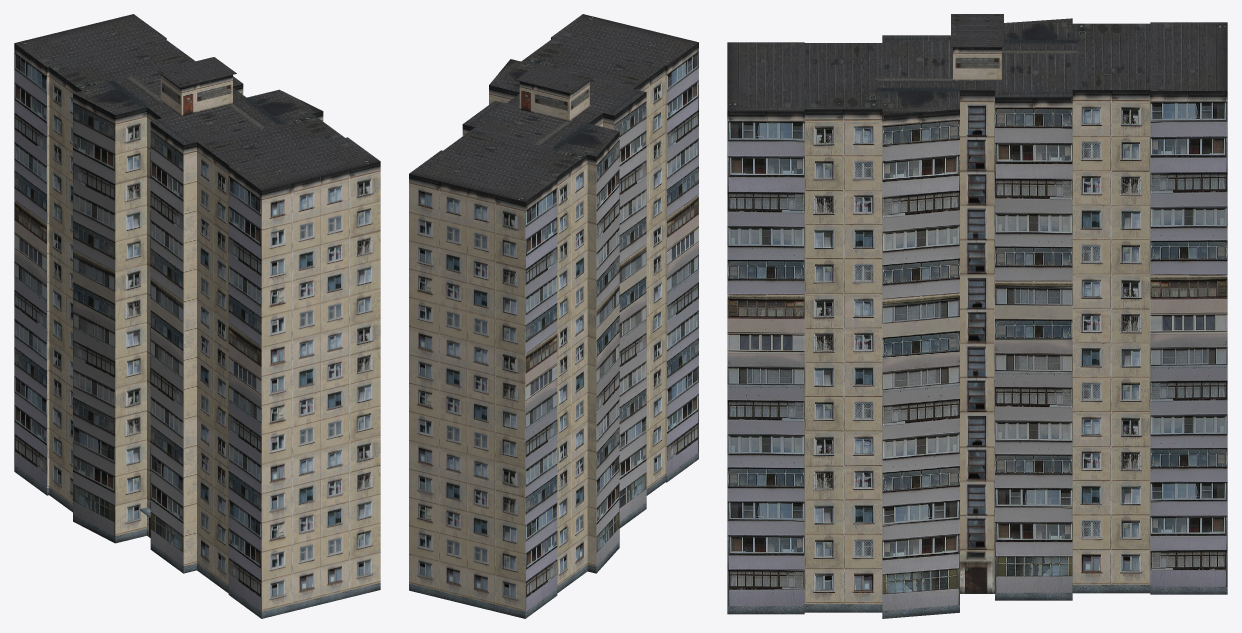
The model's file is highhouse_1.fbx.
3 renders of one model, left to right at view 1: azimuth 30°, elevation 25°; view 2: azimuth 150°, elevation 25°; view 3: azimuth 270°, elevation 25°, orthographic. The views are drawn at different scales.
Visible parts, largest first — view 1: 28c56721-b701-4938-a374-cc6770f101ab; view 2: 28c56721-b701-4938-a374-cc6770f101ab; view 3: 28c56721-b701-4938-a374-cc6770f101ab.
Part boxes in pixels (x1,y1,x2,y2): 28c56721-b701-4938-a374-cc6770f101ab: (14, 14, 380, 618); 28c56721-b701-4938-a374-cc6770f101ab: (409, 14, 698, 618); 28c56721-b701-4938-a374-cc6770f101ab: (727, 14, 1227, 618).
Size of the model in its own units: 15.82 by 40.98 by 34.47.
Materials: 1 (1 with a texture image).
